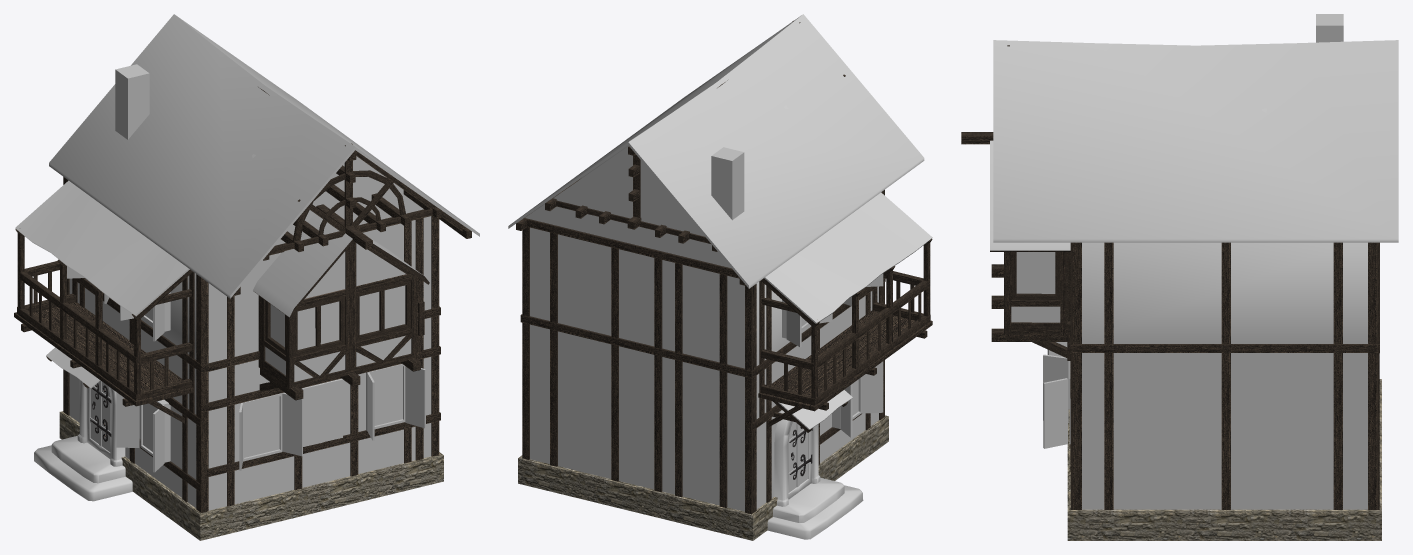
File: house4.fbx
The picture shows the model from 3 angles, left to right: view 1: azimuth 30°, elevation 25°; view 2: azimuth 150°, elevation 25°; view 3: azimuth 270°, elevation 25°; orthographic projection. The views are drawn at different scales.
Visible parts, largest first — view 1: Mesh Object; view 2: Mesh Object; view 3: Mesh Object.
Boxes of the visible parts, x1,y1,x2,y2 form: Mesh Object: [14, 14, 479, 540]; Mesh Object: [508, 14, 932, 540]; Mesh Object: [961, 14, 1398, 540].
Bounding box in the file's own units: 9.97 × 12.21 × 11.12.
